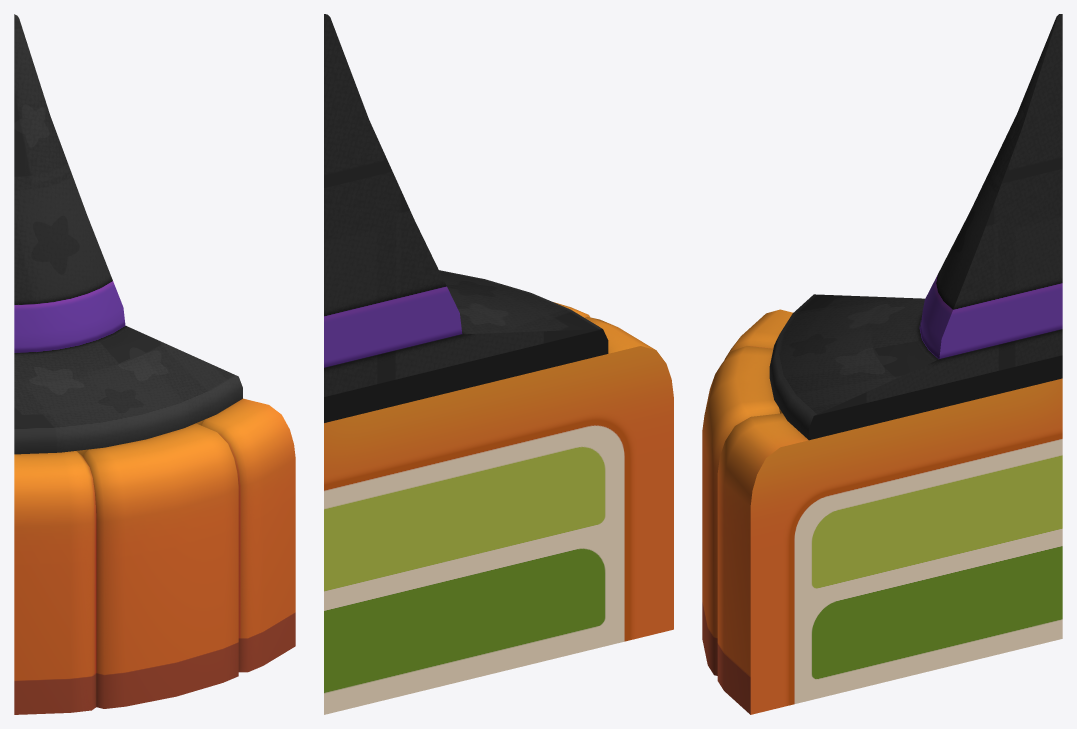
The model's file is cake_72.FBX.
3 renders of one model, left to right at view 1: azimuth 30°, elevation 25°; view 2: azimuth 150°, elevation 25°; view 3: azimuth 270°, elevation 25°, orthographic. The views are drawn at different scales.
Parts seen in each view (by area): view 1: cake_72; view 2: cake_72; view 3: cake_72.
Part boxes in pixels (x1,y1,x2,y2): cake_72: (14, 14, 295, 714); cake_72: (324, 14, 673, 714); cake_72: (702, 14, 1062, 714).
Size of the model in its own units: 5.09 by 9.74 by 5.09.
